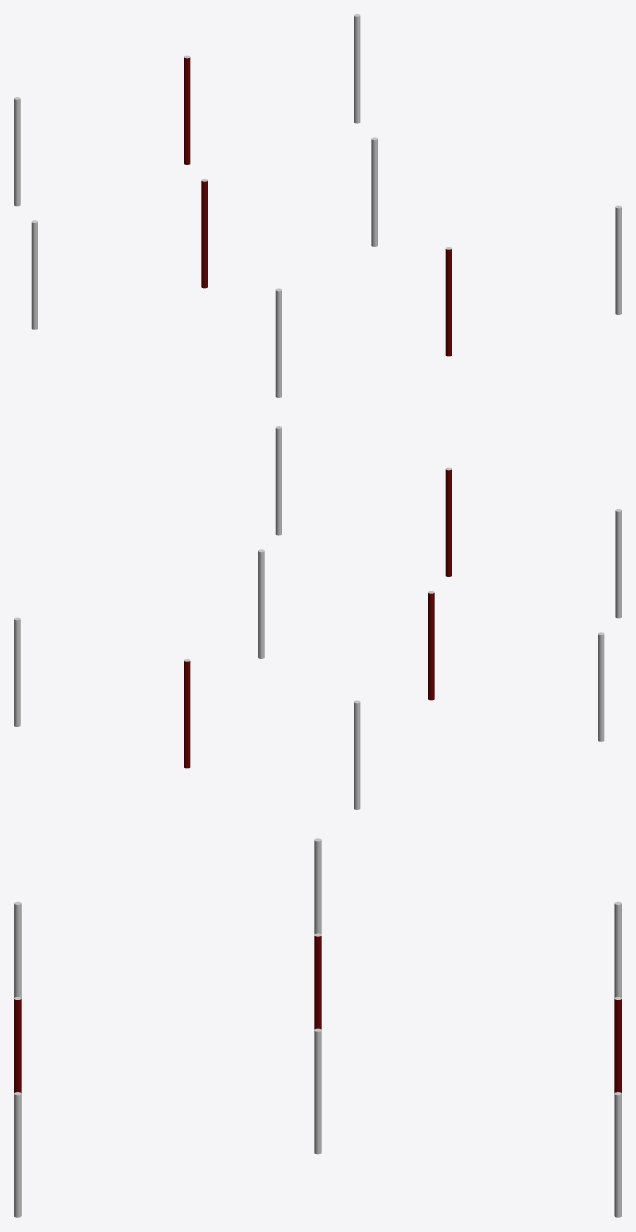
File: Slalom.dae
3 renders of one model, top to bottom at view 1: azimuth 30°, elevation 25°; view 2: azimuth 150°, elevation 25°; view 3: azimuth 270°, elevation 25°, orthographic. The views are drawn at different scales.
Parts seen in each view (by area): view 1: node_ff55d33e_1287_496c_9405_f1394d019706_mesh1, node_ff55d33e_1287_496c_9405_f1394d019706_mesh0; view 2: node_ff55d33e_1287_496c_9405_f1394d019706_mesh1, node_ff55d33e_1287_496c_9405_f1394d019706_mesh0; view 3: node_ff55d33e_1287_496c_9405_f1394d019706_mesh1, node_ff55d33e_1287_496c_9405_f1394d019706_mesh0.
Boxes of the visible parts, box(x1,y1,x2,y2) form: node_ff55d33e_1287_496c_9405_f1394d019706_mesh1: box(14, 14, 621, 397); node_ff55d33e_1287_496c_9405_f1394d019706_mesh0: box(184, 57, 451, 356); node_ff55d33e_1287_496c_9405_f1394d019706_mesh1: box(14, 426, 621, 809); node_ff55d33e_1287_496c_9405_f1394d019706_mesh0: box(184, 469, 451, 768); node_ff55d33e_1287_496c_9405_f1394d019706_mesh1: box(14, 838, 621, 1217); node_ff55d33e_1287_496c_9405_f1394d019706_mesh0: box(14, 936, 621, 1093).
Bounding box in the file's own units: 4.05 × 0.9 × 4.05.
